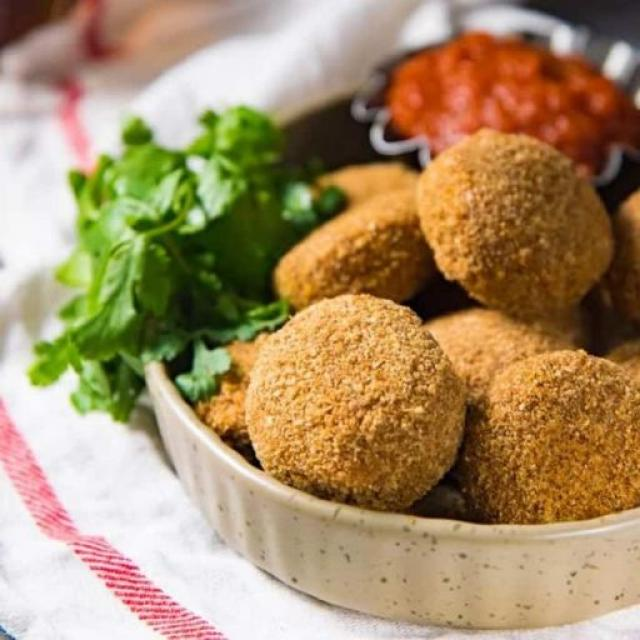Cutlet: (265, 329, 447, 486), (430, 135, 592, 309), (498, 350, 636, 513)
